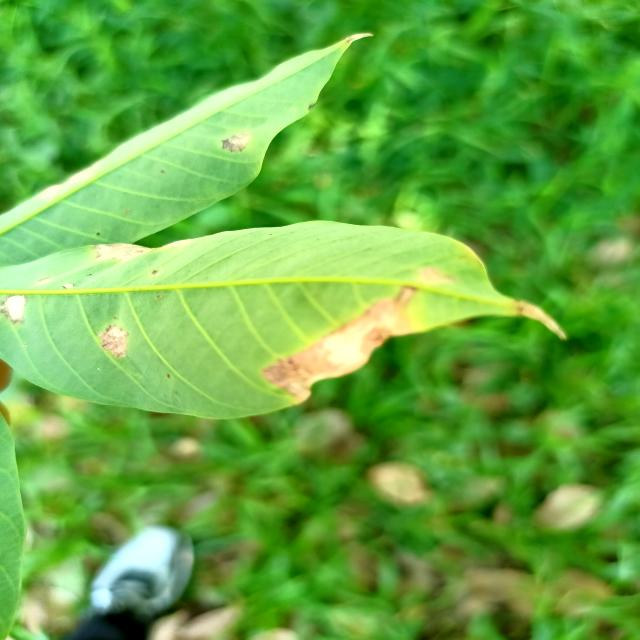Leaf-Blight: (264, 286, 416, 403), (97, 239, 190, 263), (519, 300, 565, 340), (101, 327, 127, 358), (7, 295, 25, 322)
